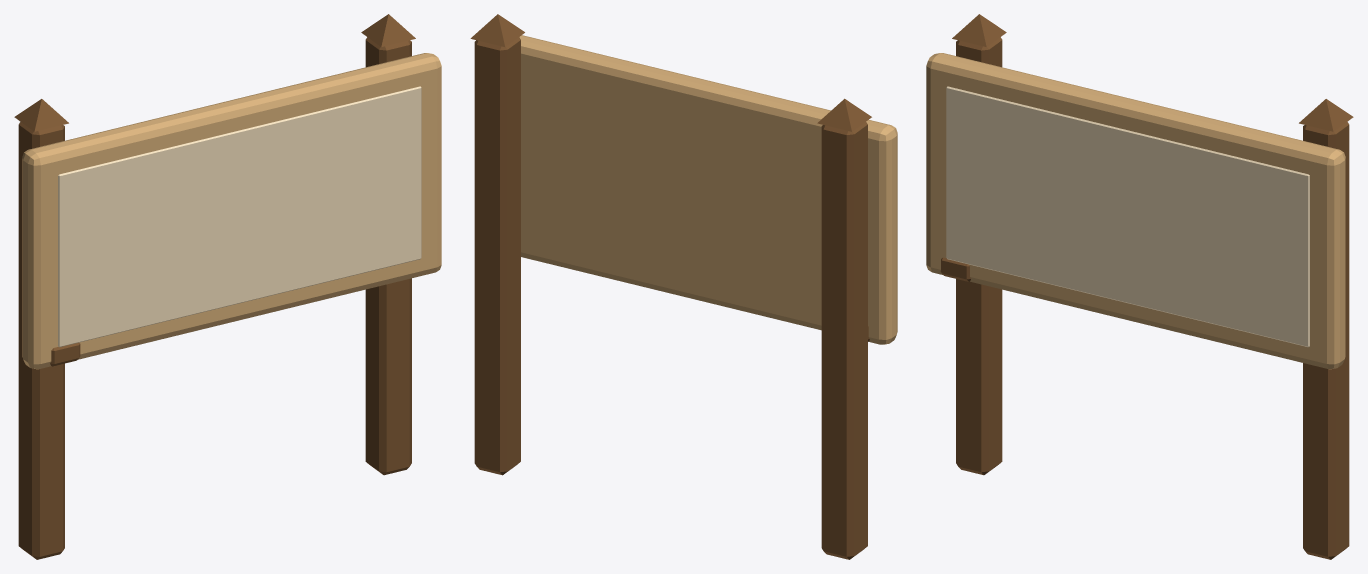
The model's file is placa-quadro.glb.
The picture shows the model from 3 angles, left to right: view 1: azimuth 30°, elevation 25°; view 2: azimuth 150°, elevation 25°; view 3: azimuth 330°, elevation 25°; orthographic projection.
Visible parts, largest first — view 1: texto, placa; view 2: placa; view 3: texto, placa.
Part boxes in pixels (x1,y1,x2,y2): texto: [58, 86, 421, 347]; placa: [14, 14, 441, 559]; placa: [470, 14, 897, 559]; texto: [946, 86, 1309, 347]; placa: [926, 14, 1353, 559].
Bounding box in the file's own units: 1 × 1.05 × 0.1484.
